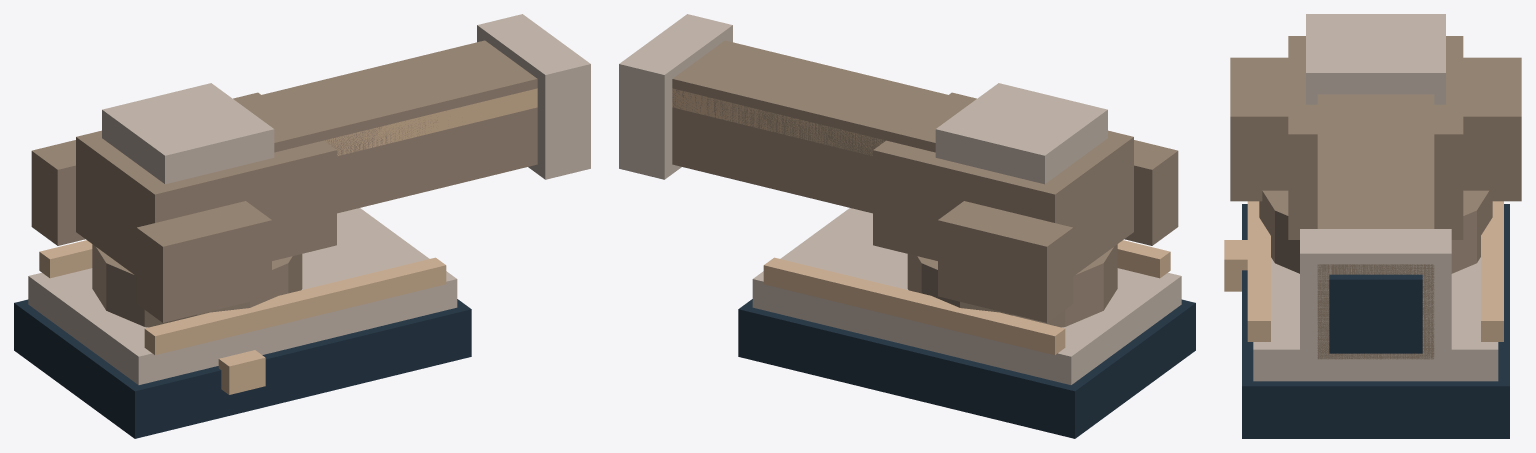
The model's file is module-cannon.glb.
3 views of the same model, side by side, from view 1: azimuth 30°, elevation 25°; view 2: azimuth 150°, elevation 25°; view 3: azimuth 270°, elevation 25° (orthographic). The views are drawn at different scales.
Visible parts, largest first — view 1: 贯星重炮; view 2: 贯星重炮; view 3: 贯星重炮.
Boxes of the visible parts, left/top/right/bottom form: 贯星重炮: left=14, top=14, right=590, bottom=438; 贯星重炮: left=619, top=14, right=1195, bottom=438; 贯星重炮: left=1224, top=14, right=1521, bottom=438.
Bounding box in the file's own units: 0.54 × 0.26 × 0.255.
